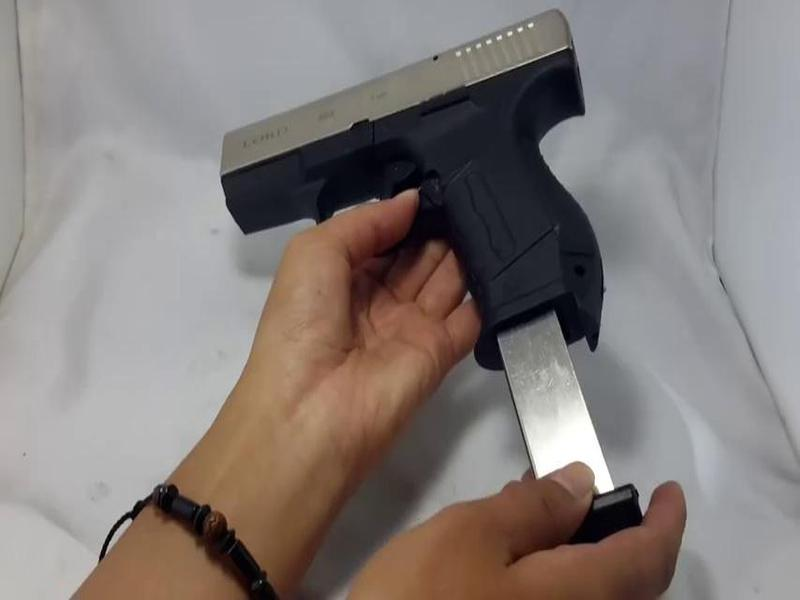Pistola: (177, 9, 626, 341)
